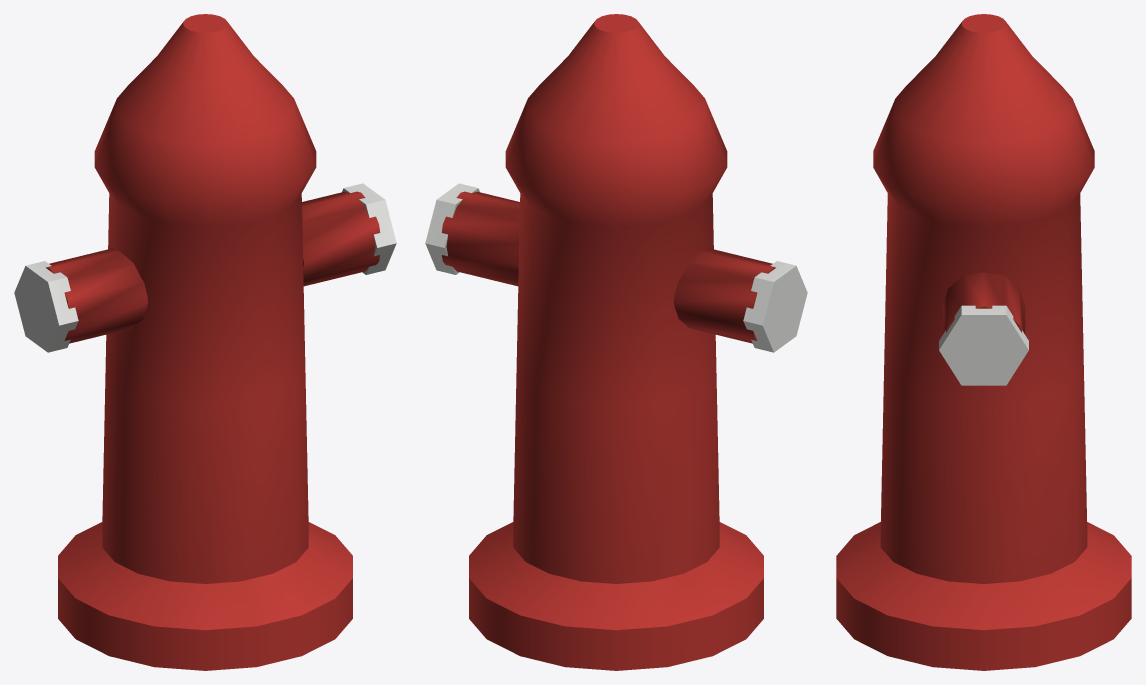
File: st_hydrant.glb
3 renders of one model, left to right at view 1: azimuth 30°, elevation 25°; view 2: azimuth 150°, elevation 25°; view 3: azimuth 270°, elevation 25°, orthographic.
Parts seen in each view (by area): view 1: body; view 2: body; view 3: body.
Part boxes in pixels (x1,y1,x2,y2): body: [14, 14, 396, 670]; body: [425, 14, 807, 670]; body: [836, 14, 1131, 670].
Bounding box in the file's own units: 0.52 × 0.86 × 0.3939.
